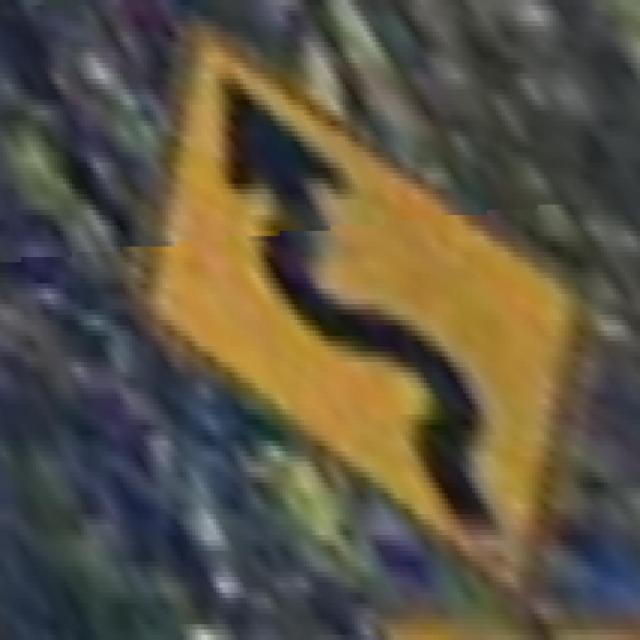Banyak Tikungan Pertama Kanan: (135, 16, 586, 593)
